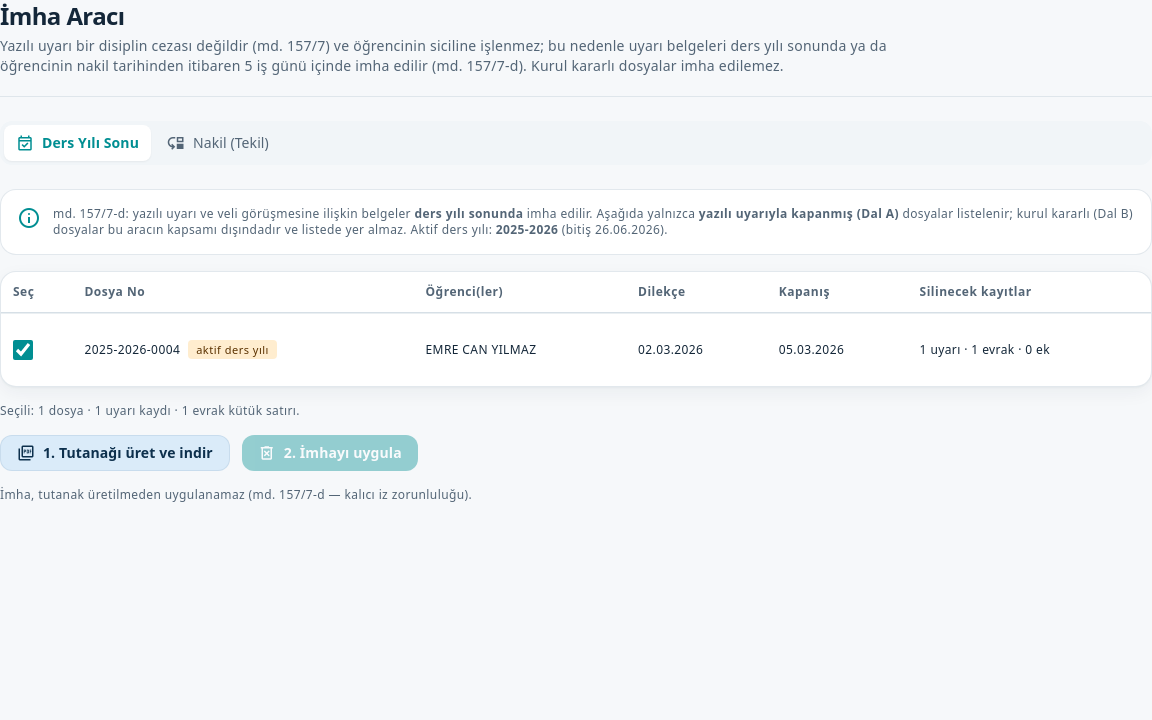
it: ImhaPage — ders yılı sonu › tutanak → ikinci onay → imha zincirini yürütür
Expected: the text "2025-2026-0004" is shown, [84,341,180,358]
Click the button "1. Tutanağı üret ve indir" at (115, 453), box [0,435,230,471]
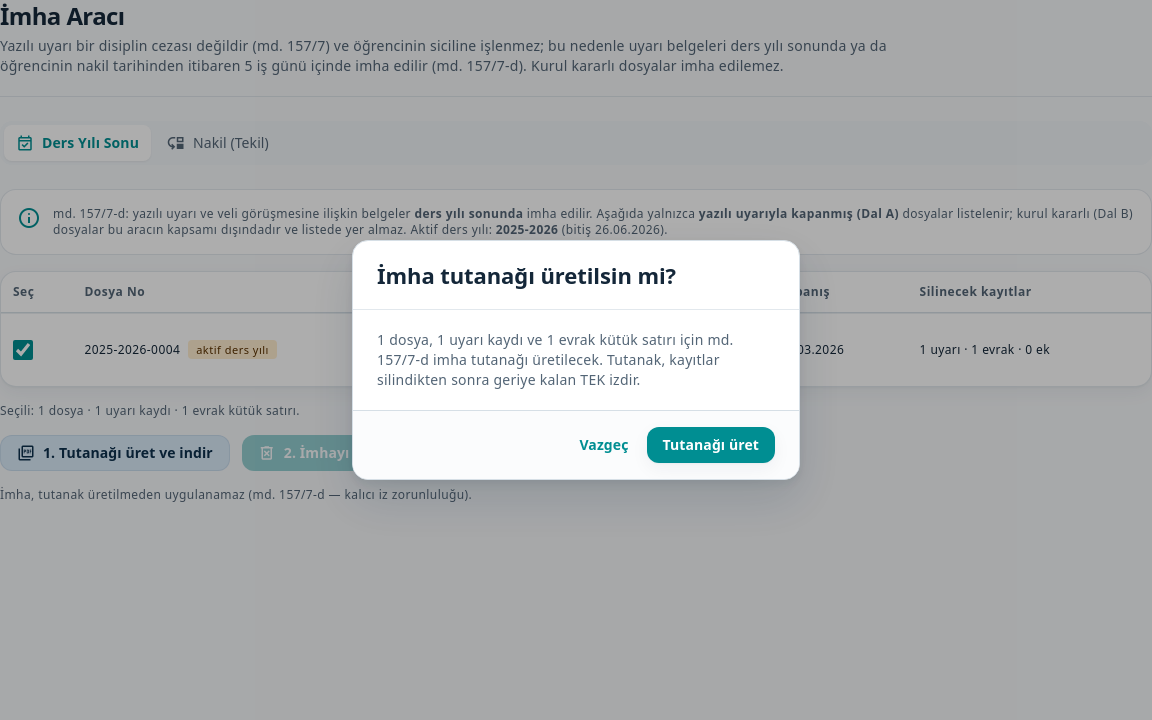
Note: BİRİNCİ onay diyaloğu.
Click the button "Tutanağı üret" at (711, 445), box [646,427,775,463]
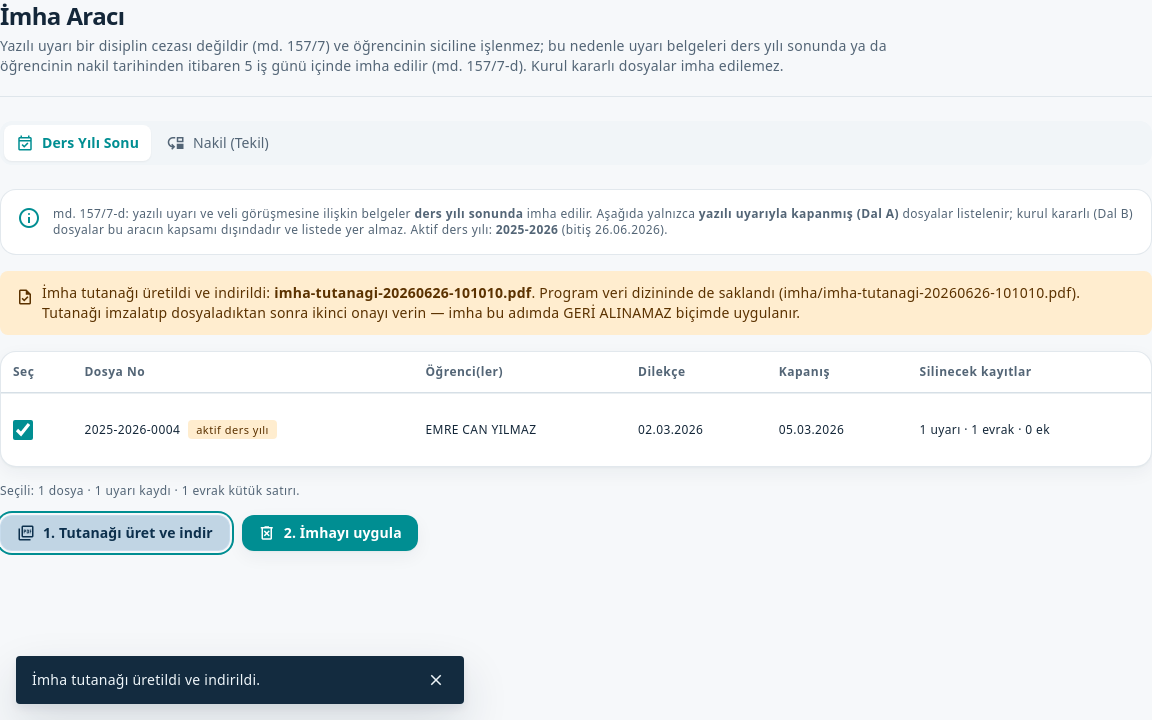
Now the button "2. İmhayı uygula" is enabled
Click the button "2. İmhayı uygula" at (330, 533), box [242,515,418,551]
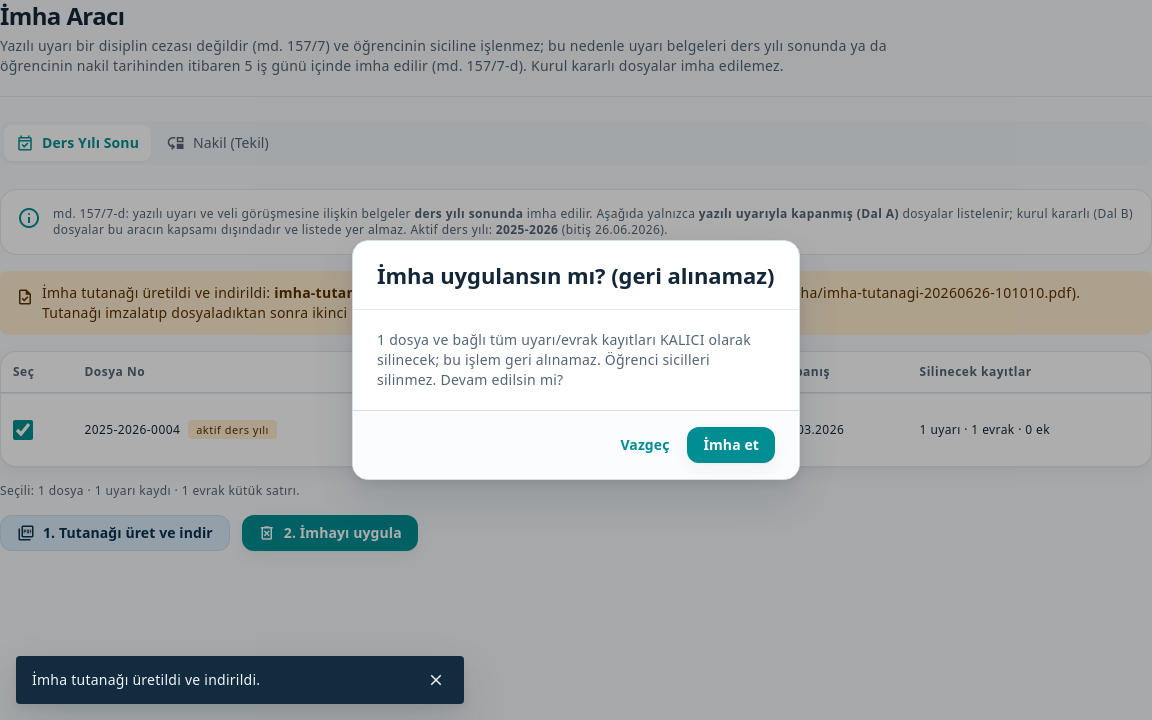
Now the heading "İmha uygulansın mı? (geri alınamaz)" is shown, box [377,261,775,289]
Click the button "İmha et" at (731, 445), box [688,427,775,463]
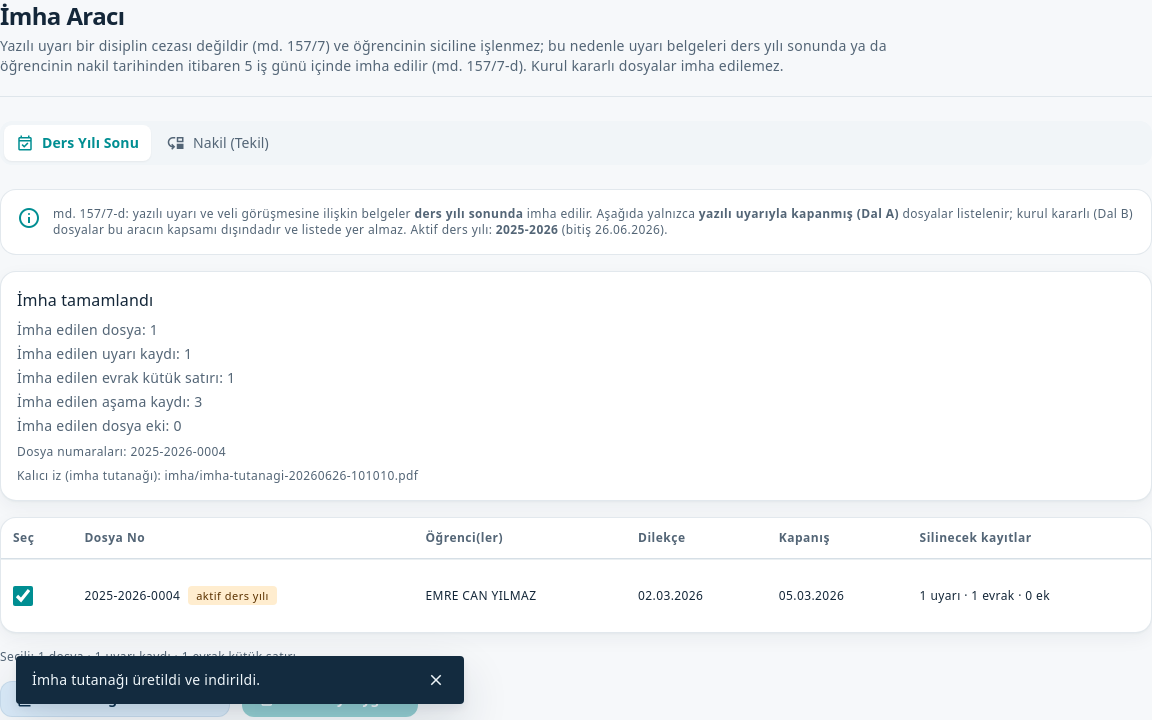
Now the heading "İmha tamamlandı" is shown, box [17,289,153,311]
Now the text "Dosya numaraları: 2025-2026-0004" is shown, box [17,443,226,460]
